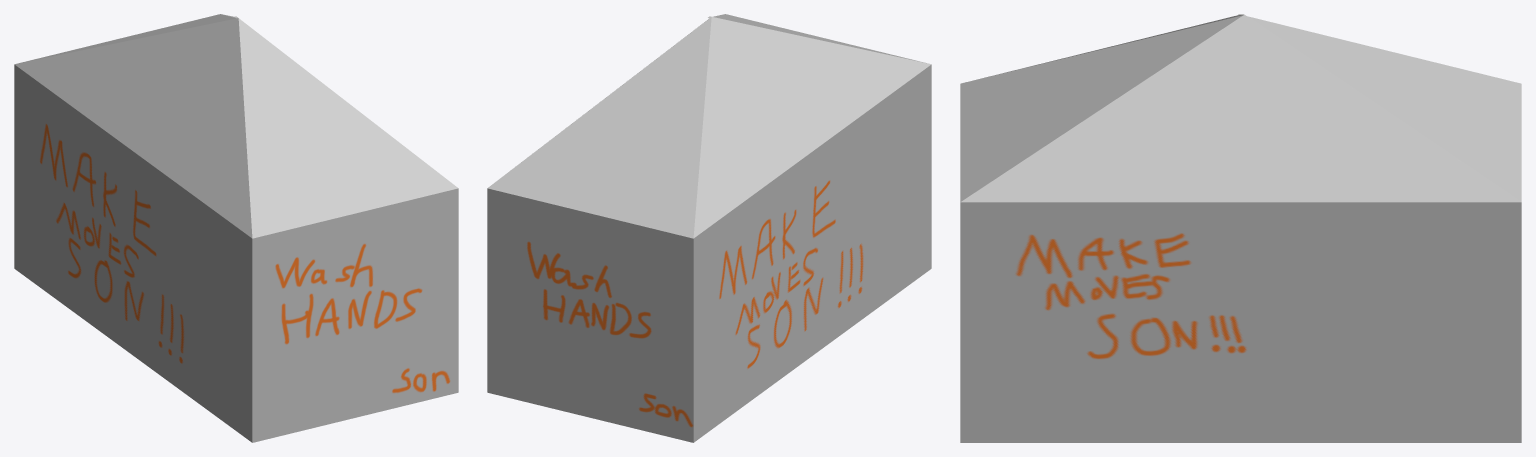
The model's file is house1_graf_scaled.glb.
3 views of the same model, side by side, from view 1: azimuth 30°, elevation 25°; view 2: azimuth 150°, elevation 25°; view 3: azimuth 270°, elevation 25° (orthographic). The views are drawn at different scales.
Visible parts, largest first — view 1: node_id4; view 2: node_id4; view 3: node_id4.
Boxes of the visible parts, box(x1,y1,x2,y2) form: node_id4: box(14, 14, 458, 442); node_id4: box(487, 14, 931, 442); node_id4: box(960, 14, 1521, 442).
Bounding box in the file's own units: 2 × 2.9 × 4.
Materials: 1 (1 with a texture image).
